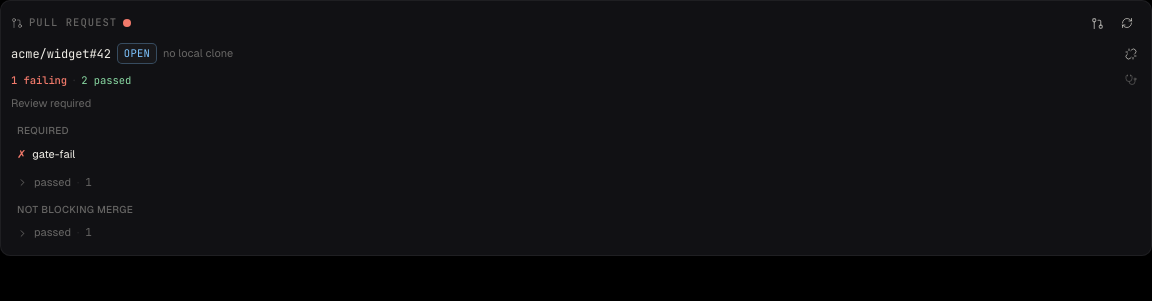
Scenario: PrCompanionSection › folds each group’s passing checks separately, keeping failures visible
Expected: the text "gate-fail" is shown, [32, 147, 75, 163]
Expected: the text "gate-pass" is not shown
Click the button "passed · 1" below "gate-fail" at (52, 182), box [11, 169, 1141, 197]
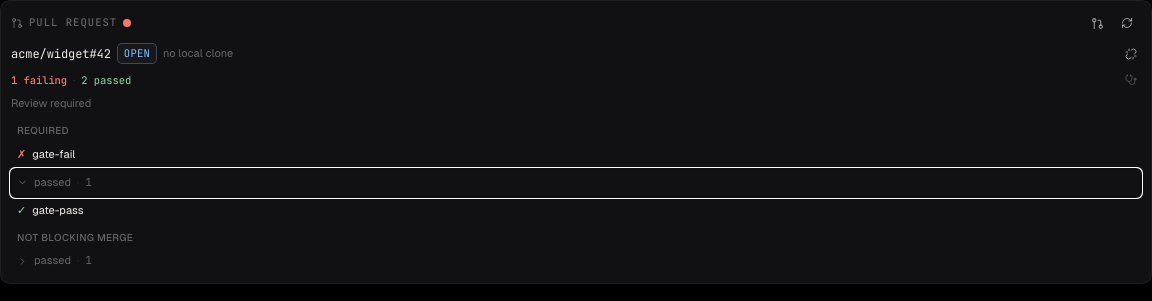
Expected: the text "gate-pass" is shown, [32, 203, 84, 219]
